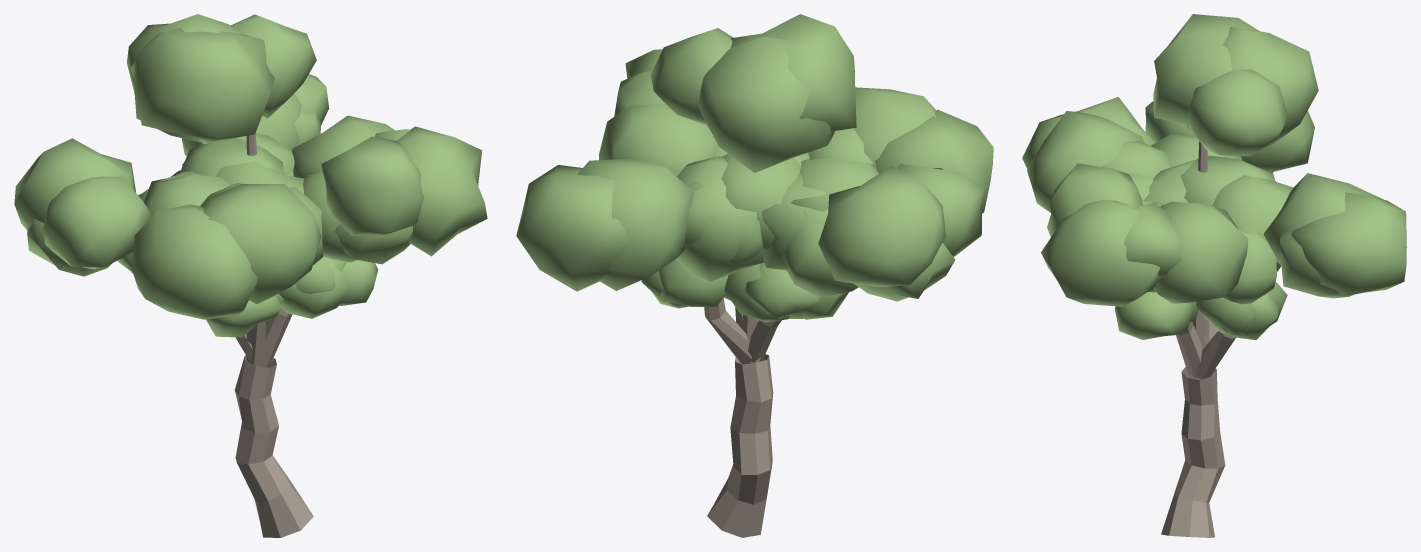
The model's file is Blender_BlackOak_2.glb.
3 views of the same model, side by side, from view 1: azimuth 30°, elevation 25°; view 2: azimuth 150°, elevation 25°; view 3: azimuth 270°, elevation 25° (orthographic). The views are drawn at different scales.
Parts seen in each view (by area): view 1: Blender_BlackOak_2; view 2: Blender_BlackOak_2; view 3: Blender_BlackOak_2.
Boxes of the visible parts, <box> form: Blender_BlackOak_2: <box>14,14,487,537</box>; Blender_BlackOak_2: <box>516,14,993,537</box>; Blender_BlackOak_2: <box>1022,14,1406,537</box>.
Bounding box in the file's own units: 12.68 × 16.11 × 11.52.
